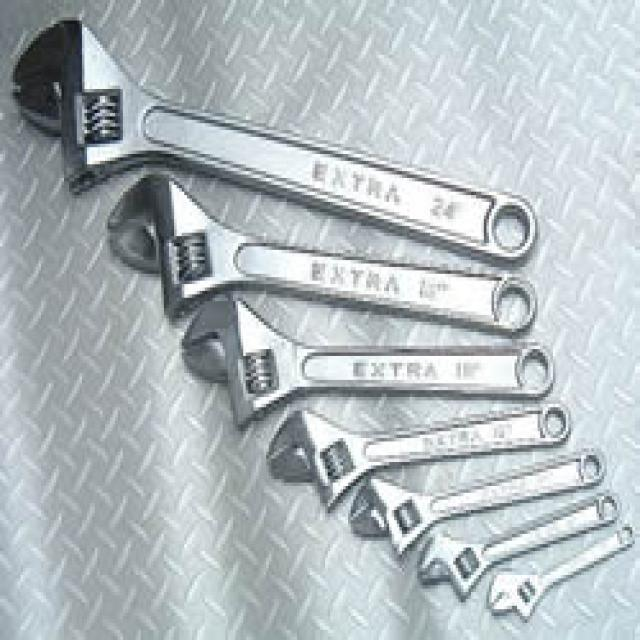wrench: (0, 9, 547, 201), (89, 164, 481, 324), (174, 290, 499, 437), (247, 404, 531, 504)
